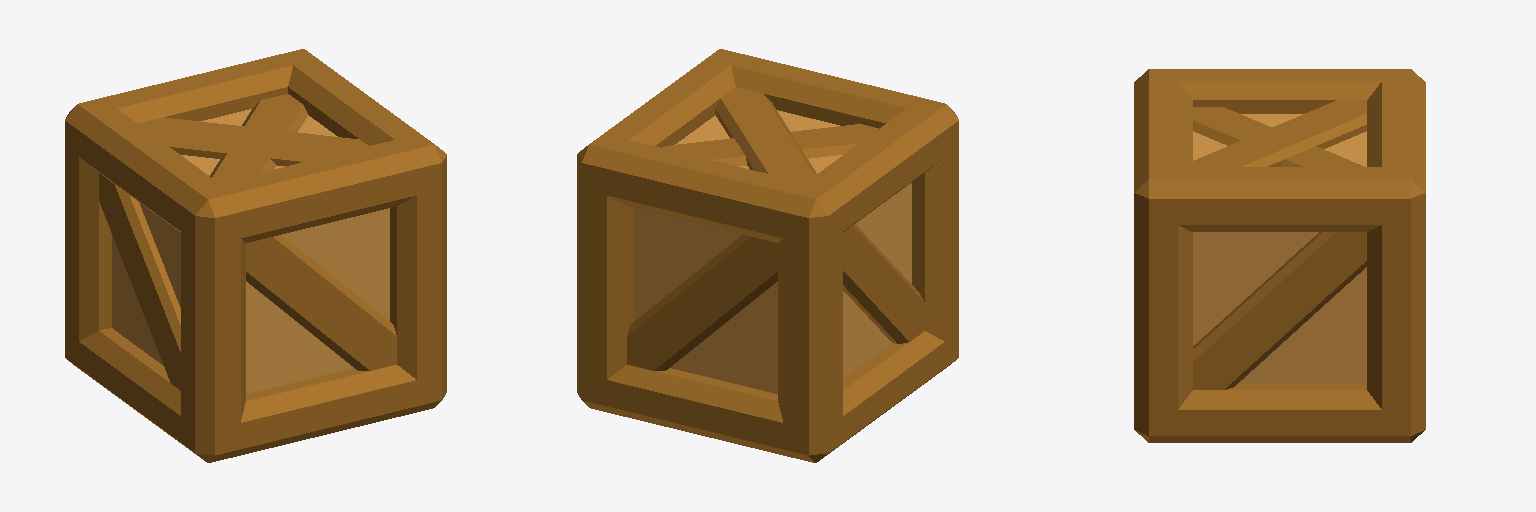
File: Prop_Crate.obj
3 renders of one model, left to right at view 1: azimuth 30°, elevation 25°; view 2: azimuth 150°, elevation 25°; view 3: azimuth 270°, elevation 25°, orthographic.
Parts seen in each view (by area): view 1: Wood_Dark, Wood_Medium; view 2: Wood_Dark, Wood_Medium; view 3: Wood_Dark, Wood_Medium.
Part boxes in pixels (bbox=[...]): Wood_Dark: bbox=[65, 49, 446, 462]; Wood_Medium: bbox=[112, 109, 389, 393]; Wood_Dark: bbox=[577, 49, 958, 462]; Wood_Medium: bbox=[634, 110, 911, 393]; Wood_Dark: bbox=[1134, 69, 1425, 442]; Wood_Medium: bbox=[1193, 114, 1366, 383].
Bounding box in the file's own units: 1 × 1 × 1.